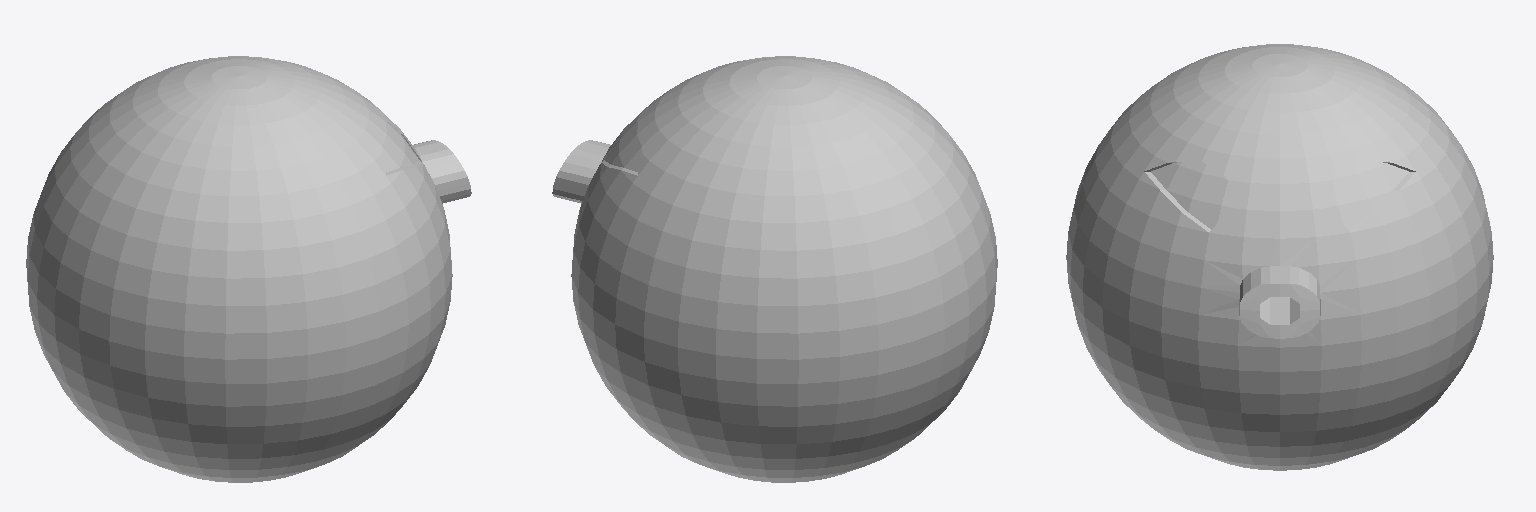
Rendered from character.obj.
3 views of the same model, side by side, from view 1: azimuth 30°, elevation 25°; view 2: azimuth 150°, elevation 25°; view 3: azimuth 270°, elevation 25° (orthographic).
Visible parts, largest first — view 1: sphere8; view 2: sphere8; view 3: sphere8.
Part boxes in pixels (x1,y1,x2,y2): sphere8: (26, 56, 471, 482); sphere8: (552, 56, 997, 482); sphere8: (1066, 44, 1493, 470).
Bounding box in the file's own units: 1.09 × 0.9509 × 1.